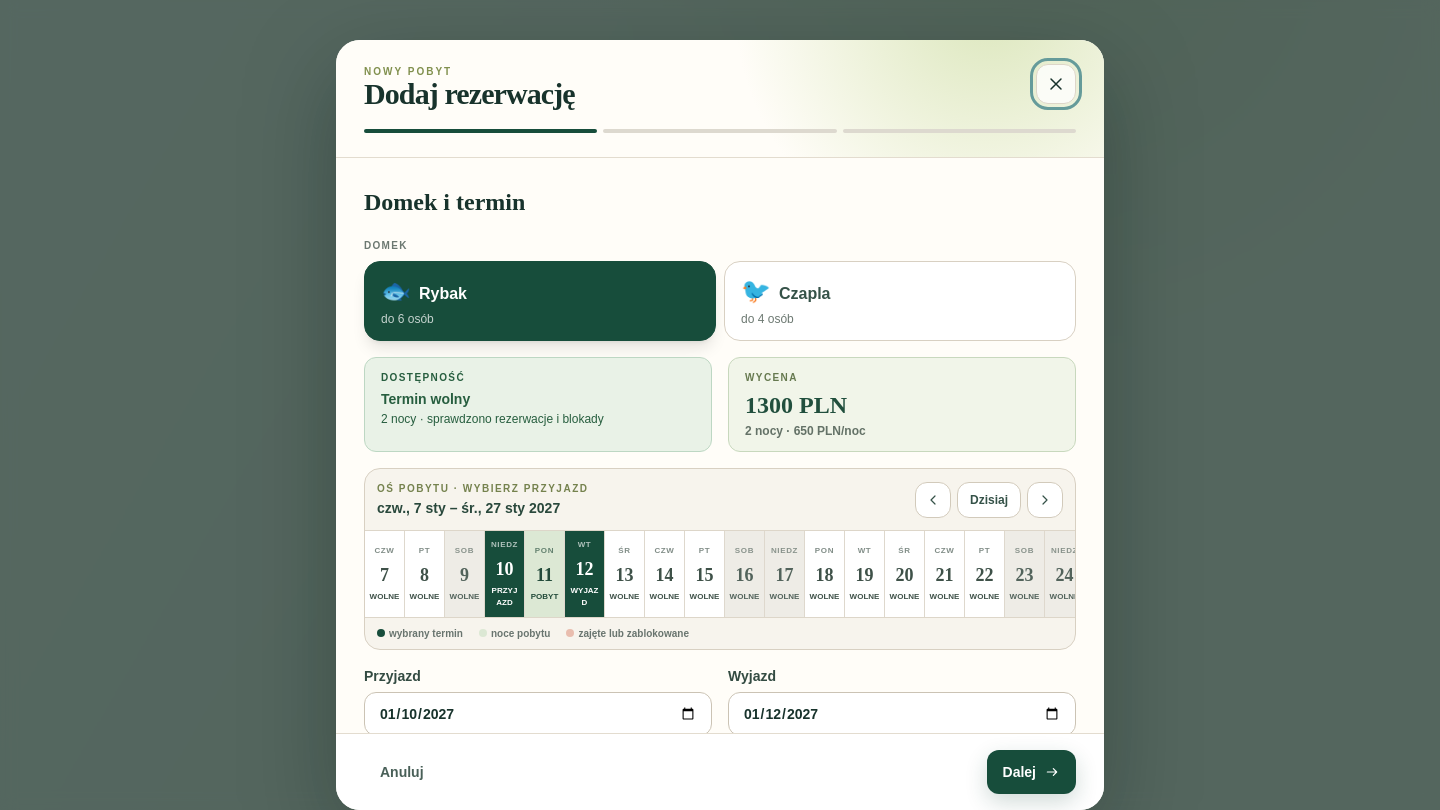
Test: NewBookingDialog — PR-10c › nadal pozwala wpisać daty ręcznie i pokazuje je na osi
This screenshot has width=1440, height=810.
Type "2027-01-11" into the date field labelled "Przyjazd" at (538, 714), box [364,692,712,736]
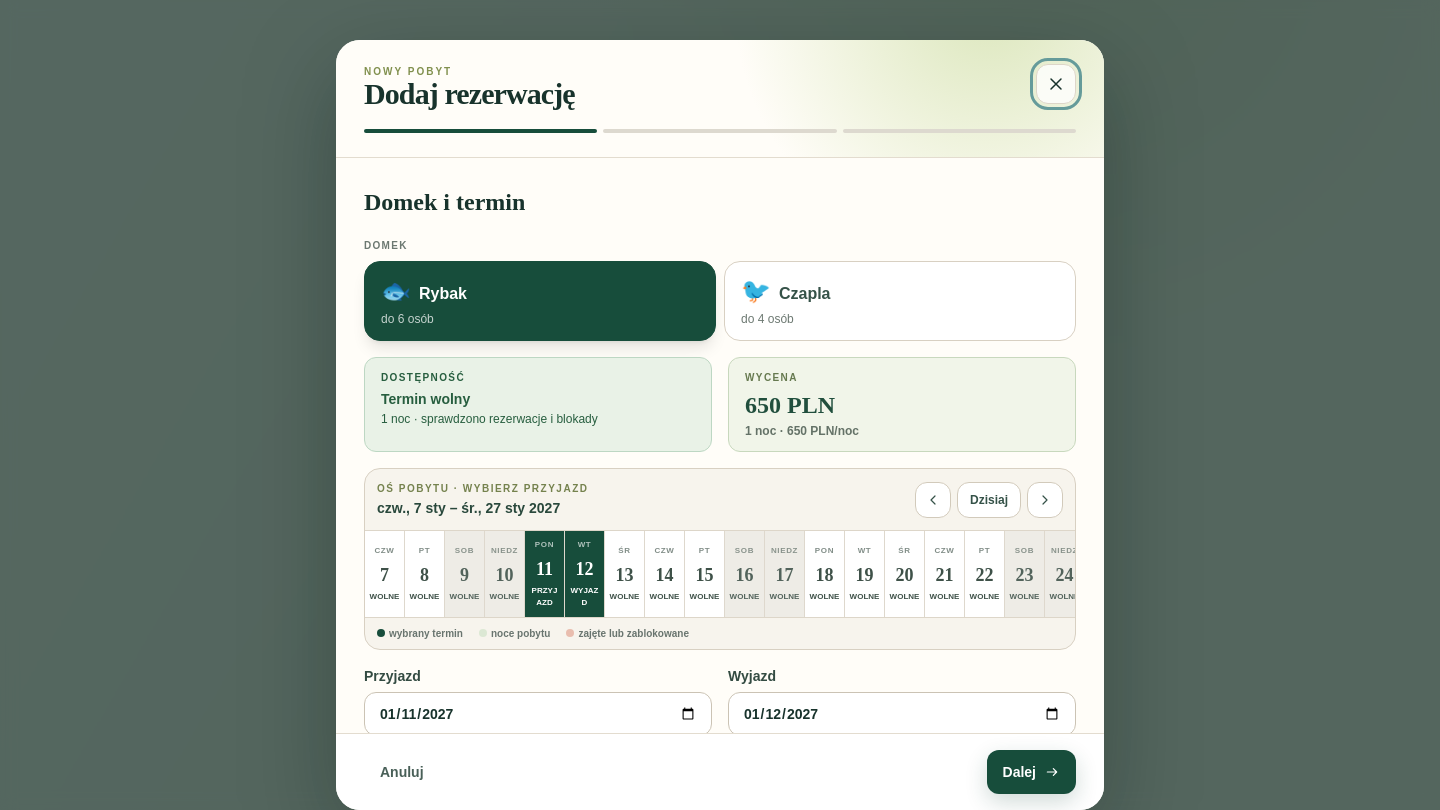
Type "2027-01-15" into the date field labelled "Wyjazd" at (902, 714), box [728,692,1076,736]
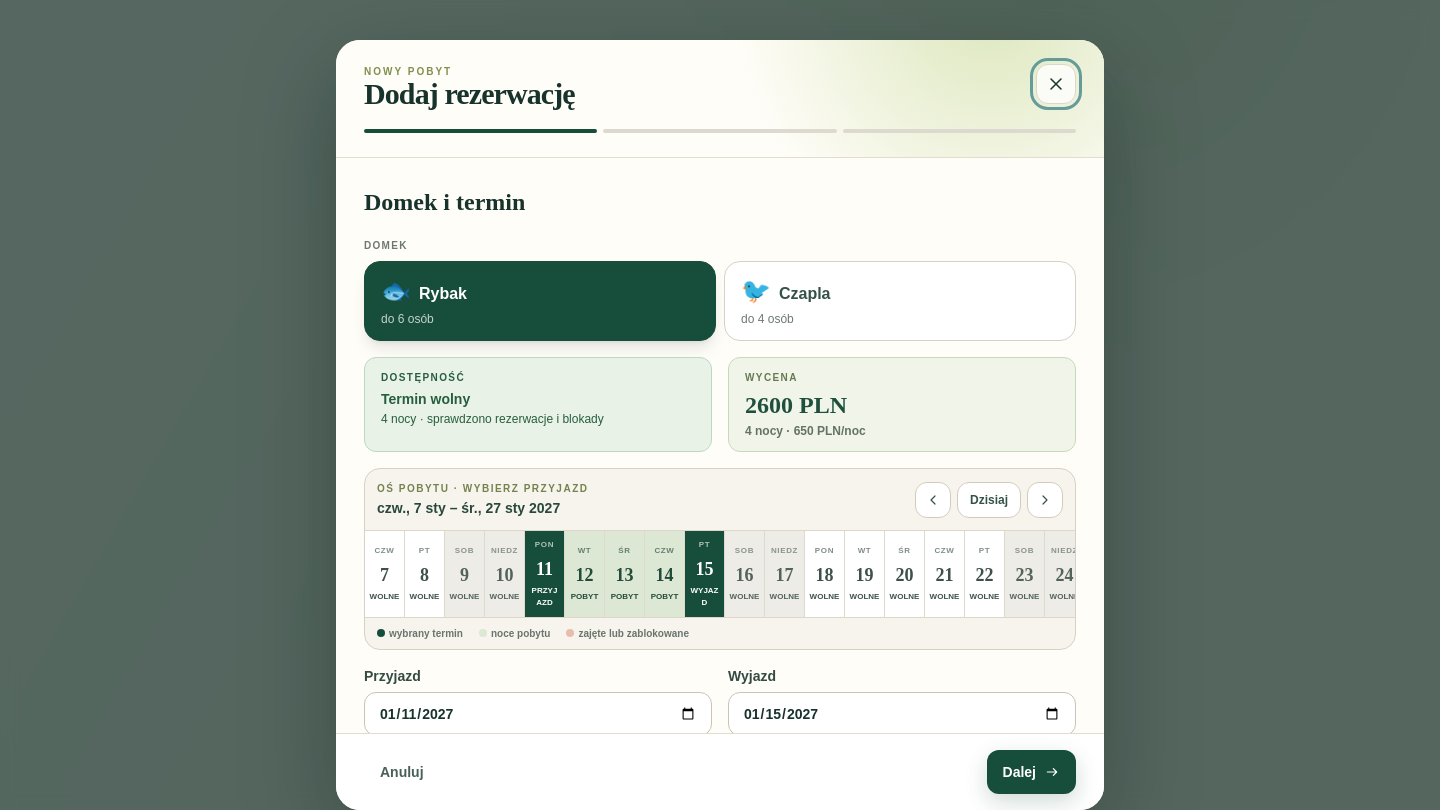
Expected: the button "pon 11 przyjazd" is shown, [525,531,565,617]
Expected: the button "pt 15 wyjazd" is shown, [685,531,725,617]
